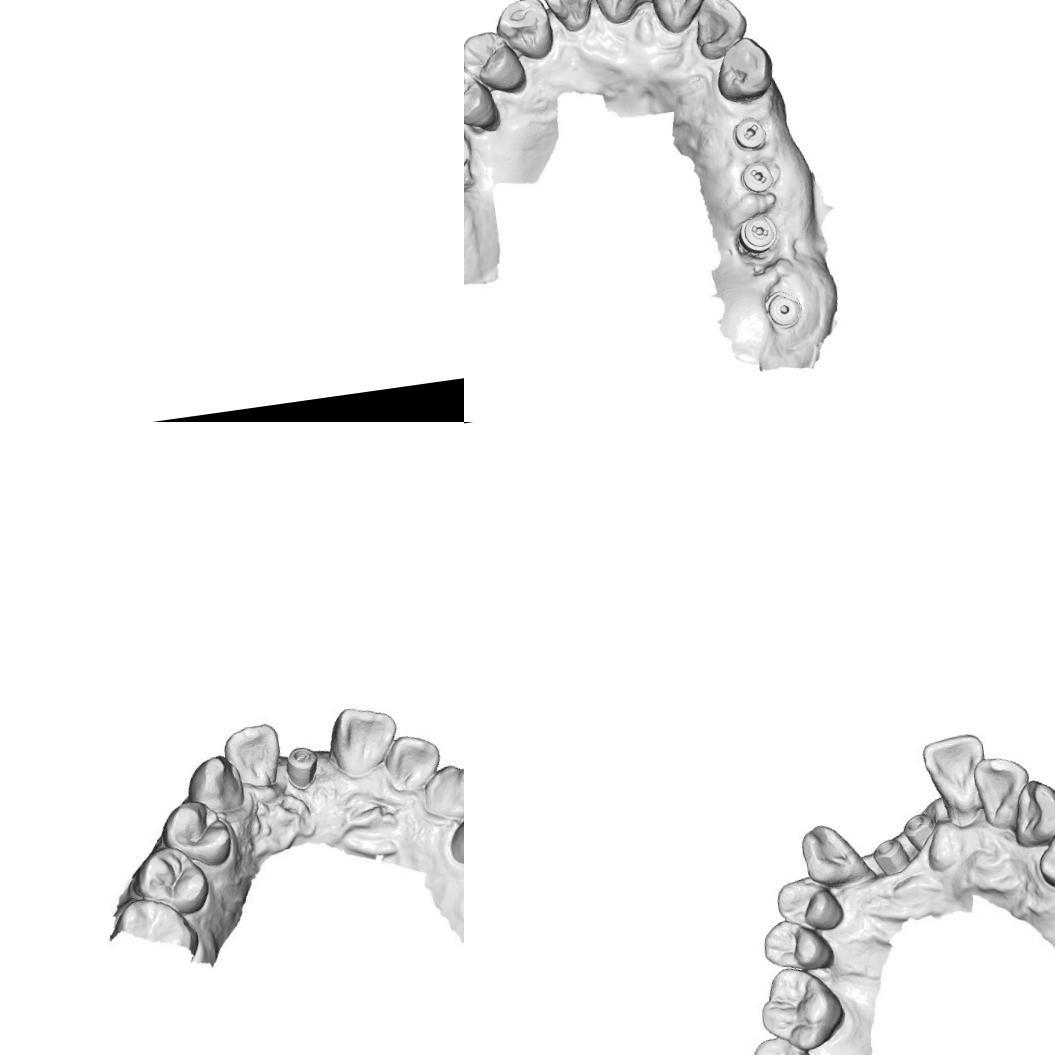canine: (796, 816, 870, 887), (710, 32, 780, 105), (185, 749, 250, 820), (489, 0, 556, 66), (1009, 776, 1055, 847), (418, 758, 464, 822)
implant: (762, 287, 804, 332), (907, 808, 946, 854), (872, 835, 914, 877), (283, 742, 320, 786), (464, 134, 472, 174)
implant_minus: (734, 211, 780, 257), (737, 156, 776, 198), (730, 113, 770, 152)
incisor: (918, 732, 993, 820), (325, 700, 402, 779), (221, 720, 287, 791), (687, 0, 752, 62), (975, 754, 1032, 824), (380, 730, 443, 790), (643, 0, 719, 38), (538, 0, 598, 36), (582, 0, 655, 28)
molar: (755, 965, 841, 1050), (738, 1030, 829, 1055)
premolar: (127, 839, 211, 920), (161, 793, 238, 874), (772, 872, 846, 938), (464, 26, 528, 101), (758, 912, 832, 976), (464, 61, 500, 135), (1035, 823, 1055, 889), (445, 804, 464, 869)
